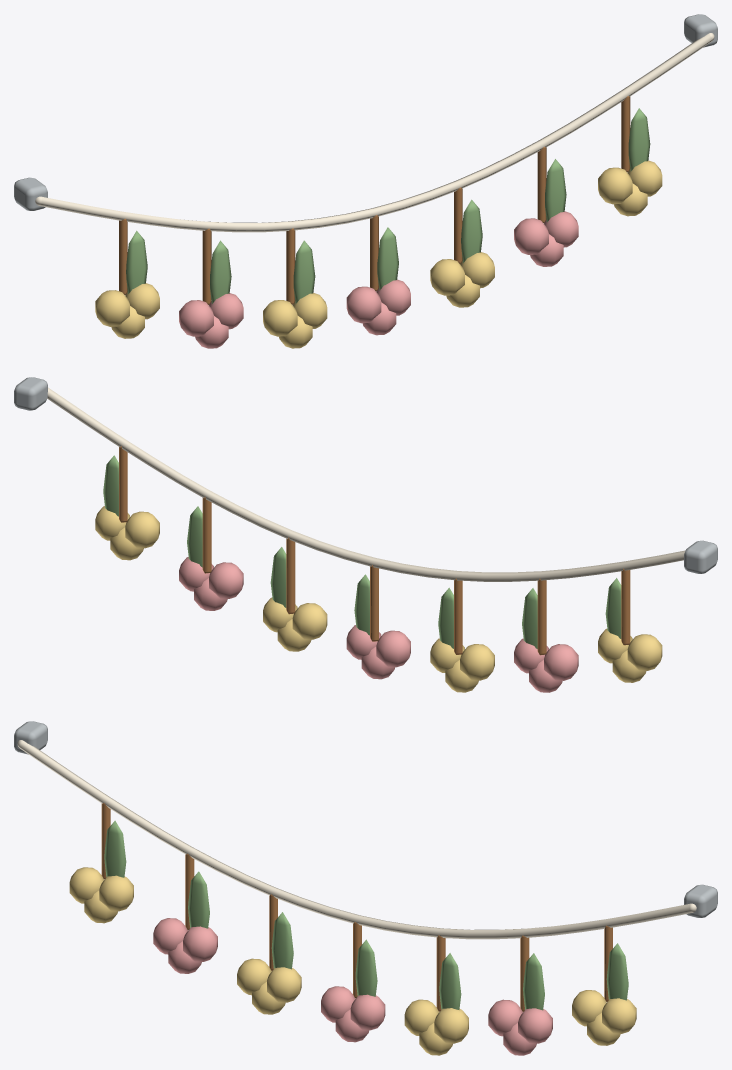
File: dried_flower_garland.glb
3 views of the same model, one above another, from view 1: azimuth 30°, elevation 25°; view 2: azimuth 150°, elevation 25°; view 3: azimuth 330°, elevation 25° (orthographic).
Visible parts, largest first — view 1: dried_flower_garland_mesh; view 2: dried_flower_garland_mesh; view 3: dried_flower_garland_mesh.
Part boxes in pixels (<box>): dried_flower_garland_mesh: <box>14,14,717,348</box>; dried_flower_garland_mesh: <box>14,377,717,692</box>; dried_flower_garland_mesh: <box>14,721,717,1055</box>.
Bounding box in the file's own units: 0.93 × 0.287 × 0.0709.
